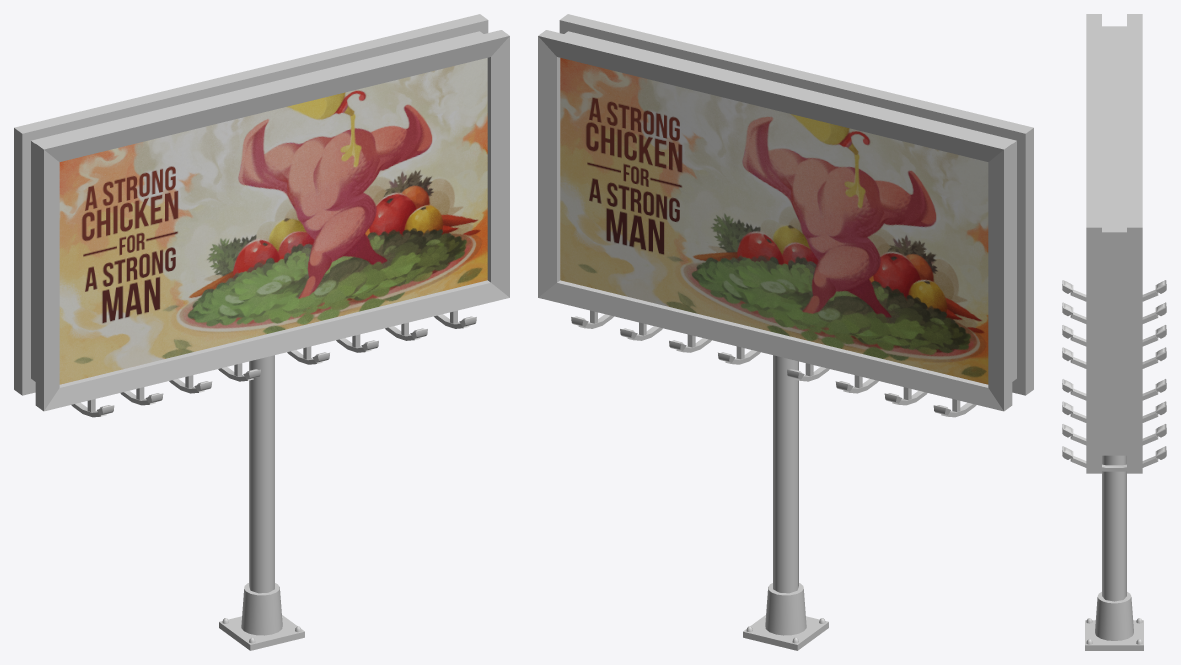
The model's file is prop_gen_billboard_b.fbx.
3 views of the same model, side by side, from view 1: azimuth 30°, elevation 25°; view 2: azimuth 150°, elevation 25°; view 3: azimuth 270°, elevation 25° (orthographic). The views are drawn at different scales.
Visible parts, largest first — view 1: prop_gen_billboard_b; view 2: prop_gen_billboard_b; view 3: prop_gen_billboard_b.
Part boxes in pixels (bbox=[...]): prop_gen_billboard_b: bbox=[14, 14, 509, 650]; prop_gen_billboard_b: bbox=[538, 14, 1033, 650]; prop_gen_billboard_b: bbox=[1062, 14, 1166, 650].
Size of the model in its own units: 1620 by 1830 by 334.
